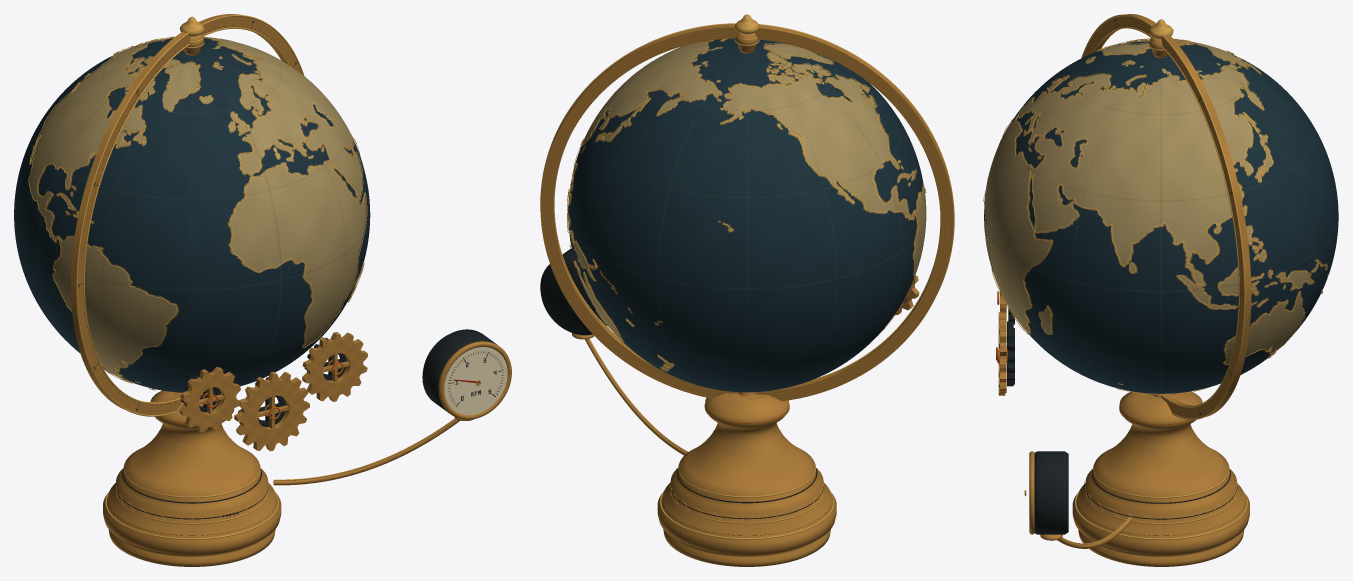
The model's file is MechanicalGlobe.fbx.
3 views of the same model, side by side, from view 1: azimuth 30°, elevation 25°; view 2: azimuth 150°, elevation 25°; view 3: azimuth 270°, elevation 25° (orthographic).
Parts seen in each view (by area): view 1: Sphere_DarkMetalShell, Sphere_EngravedContinentSections_0, Pedestal_SteppedSculptedBrass, Sphere_EngravedContinentSections_7, Meridian_BroadGraduatedBrassBand, Gear_16T_ToothedWheel, RPMGauge_PrintedDial, Gear_14T_ToothedWheel, Gear_12T_ToothedWheel, Sphere_RaisedCoastlineInlay_00, RPMGauge_DarkHousing, Sphere_RaisedCoastlineInlay_03 (+5 smaller); view 2: Sphere_DarkMetalShell, Pedestal_SteppedSculptedBrass, Meridian_BroadGraduatedBrassBand, Sphere_EngravedContinentSections_7, Sphere_EngravedContinentSections_0, RPMGauge_DarkHousing, Sphere_RaisedCoastlineInlay_03, Meridian_PolishedEdge_Outer, Sphere_EngravedContinentSections_6, Sphere_RaisedCoastlineInlay_00, Pedestal_GaugeSupportArch, Sphere_EngravedContinentSections_5 (+2 smaller); view 3: Sphere_DarkMetalShell, Sphere_EngravedContinentSections_0, Pedestal_SteppedSculptedBrass, Meridian_BroadGraduatedBrassBand, RPMGauge_DarkHousing, Sphere_RaisedCoastlineInlay_00, Sphere_EngravedContinentSections_5, Meridian_PolishedEdge_Outer, Sphere_RaisedCoastlineInlay_03, Meridian_PolishedEdge_Inner, Sphere_EngravedContinentSections_7, Sphere_EngravedContinentSections_6 (+5 smaller).
Boxes of the visible parts, x1,y1,x2,y2 form: Sphere_DarkMetalShell: [14, 39, 370, 392]; Sphere_EngravedContinentSections_0: [72, 37, 366, 382]; Pedestal_SteppedSculptedBrass: [103, 390, 281, 566]; Sphere_EngravedContinentSections_7: [29, 44, 176, 389]; Meridian_BroadGraduatedBrassBand: [70, 14, 302, 414]; Gear_16T_ToothedWheel: [234, 371, 309, 451]; RPMGauge_PrintedDial: [444, 347, 507, 415]; Gear_14T_ToothedWheel: [302, 332, 368, 401]; Gear_12T_ToothedWheel: [179, 367, 240, 432]; Sphere_RaisedCoastlineInlay_00: [73, 36, 367, 383]; RPMGauge_DarkHousing: [422, 329, 497, 412]; Sphere_RaisedCoastlineInlay_03: [28, 39, 324, 390]; Sphere_DarkMetalShell: [568, 39, 923, 392]; Pedestal_SteppedSculptedBrass: [657, 393, 836, 566]; Meridian_BroadGraduatedBrassBand: [540, 24, 953, 401]; Sphere_EngravedContinentSections_7: [568, 68, 926, 325]; Sphere_EngravedContinentSections_0: [569, 38, 899, 322]; RPMGauge_DarkHousing: [540, 249, 607, 335]; Sphere_RaisedCoastlineInlay_03: [567, 63, 926, 351]; Meridian_PolishedEdge_Outer: [540, 23, 954, 291]; Sphere_EngravedContinentSections_6: [570, 44, 915, 325]; Sphere_RaisedCoastlineInlay_00: [568, 40, 822, 371]; Pedestal_GaugeSupportArch: [585, 338, 687, 455]; Sphere_EngravedContinentSections_5: [575, 52, 923, 367]; Sphere_DarkMetalShell: [984, 39, 1338, 393]; Sphere_EngravedContinentSections_0: [984, 41, 1326, 333]; Pedestal_SteppedSculptedBrass: [1072, 391, 1249, 566]; Meridian_BroadGraduatedBrassBand: [1083, 14, 1251, 418]; RPMGauge_DarkHousing: [1034, 451, 1068, 534]; Sphere_RaisedCoastlineInlay_00: [983, 38, 1272, 334]; Sphere_EngravedContinentSections_5: [1023, 39, 1326, 363]; Meridian_PolishedEdge_Outer: [1081, 14, 1245, 419]; Sphere_RaisedCoastlineInlay_03: [1037, 38, 1276, 395]; Meridian_PolishedEdge_Inner: [1092, 26, 1239, 407]; Sphere_EngravedContinentSections_7: [1152, 39, 1272, 393]; Sphere_EngravedContinentSections_6: [1025, 43, 1327, 293].
Size of the model in its own units: 1.84 by 2.17 by 1.36.
9 materials, 9 textured.
